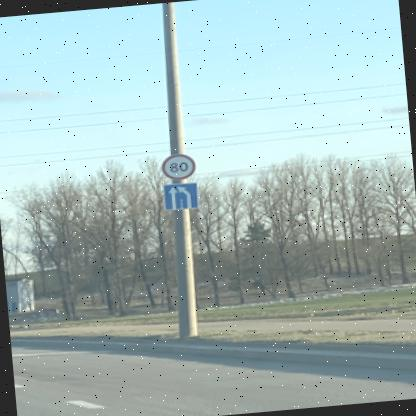speedlimit: (158, 152, 195, 180)
